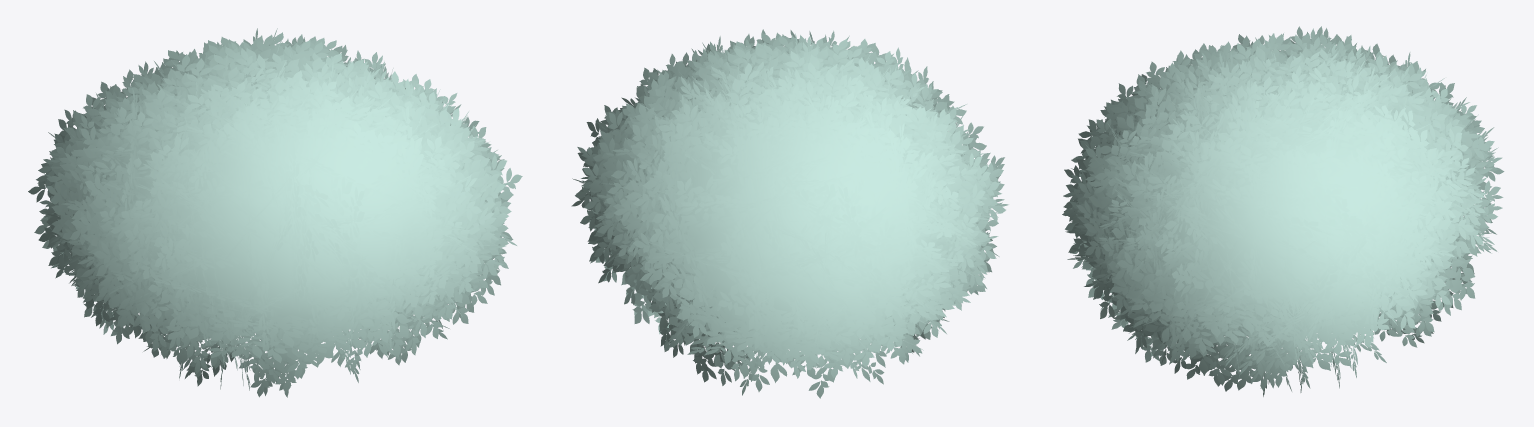
File: bush_1.fbx
3 renders of one model, left to right at view 1: azimuth 30°, elevation 25°; view 2: azimuth 150°, elevation 25°; view 3: azimuth 270°, elevation 25°, orthographic.
Parts seen in each view (by area): view 1: Bush; view 2: Bush; view 3: Bush.
Part boxes in pixels (x1=…): Bush: x1=28, y1=28, x2=522, y2=397; Bush: x1=571, y1=29, x2=1008, y2=398; Bush: x1=1062, y1=26, x2=1504, y2=396.
Bounding box in the file's own units: 250 × 176 × 241.
